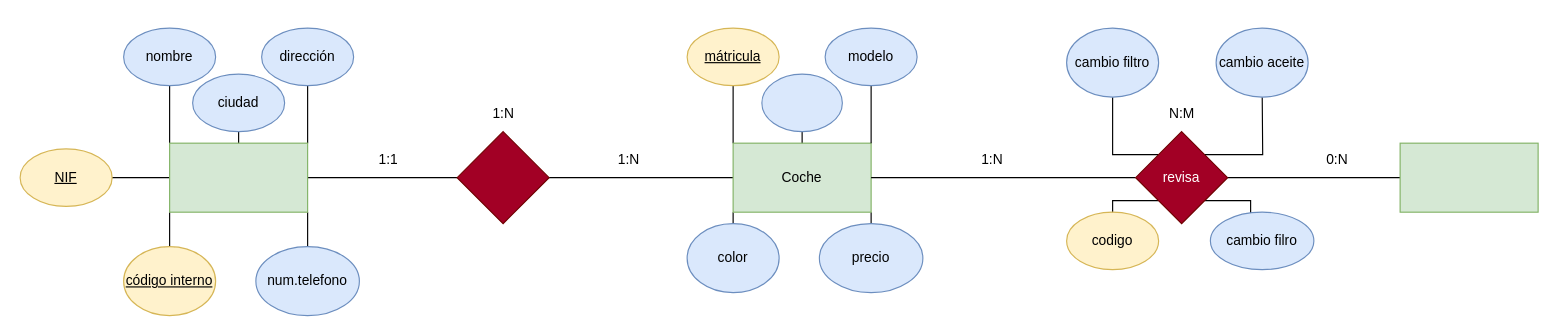
Image size: 1558x336. Some labels were removed from this diagram. Each missing label, with the centre of its shape:
"Cliente" belongs at (238,177).
"compra" belongs at (502,177).
"Concesionario" belongs at (1468,177).
"marca" belongs at (801,102).
